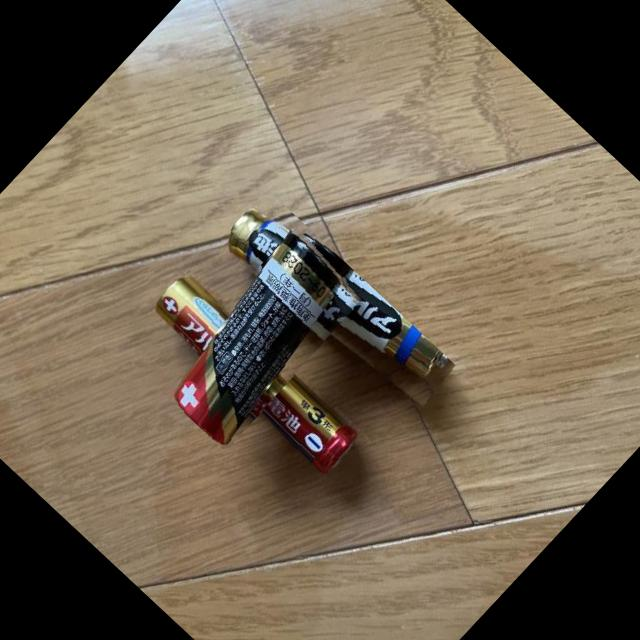Hazard: (216, 189, 458, 423), (144, 268, 373, 487), (152, 226, 372, 452)
